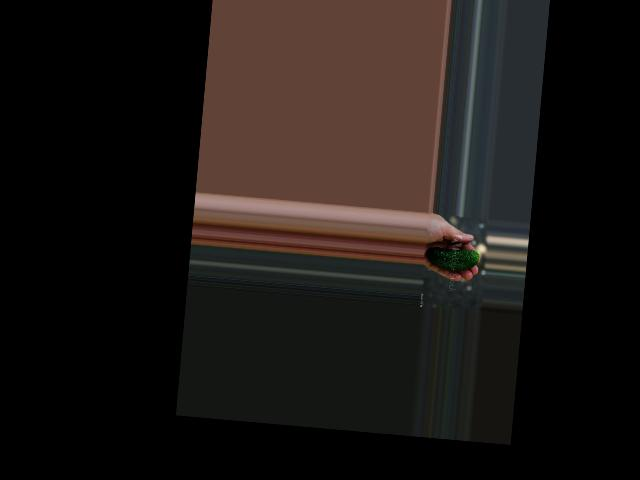cucumber: (425, 246, 479, 273)
